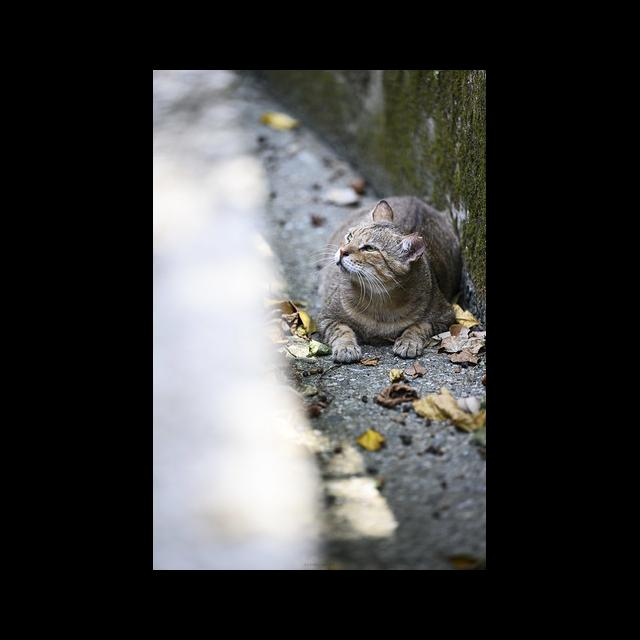animals: (318, 196, 468, 364)
